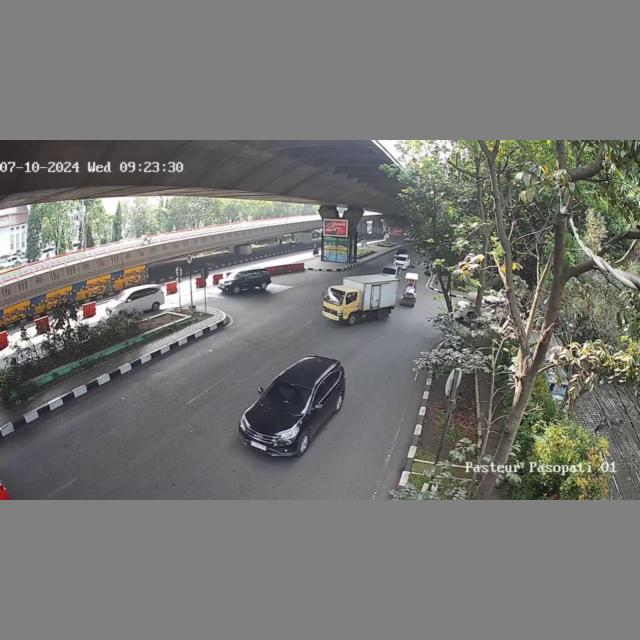windshield: (259, 377, 314, 413)
